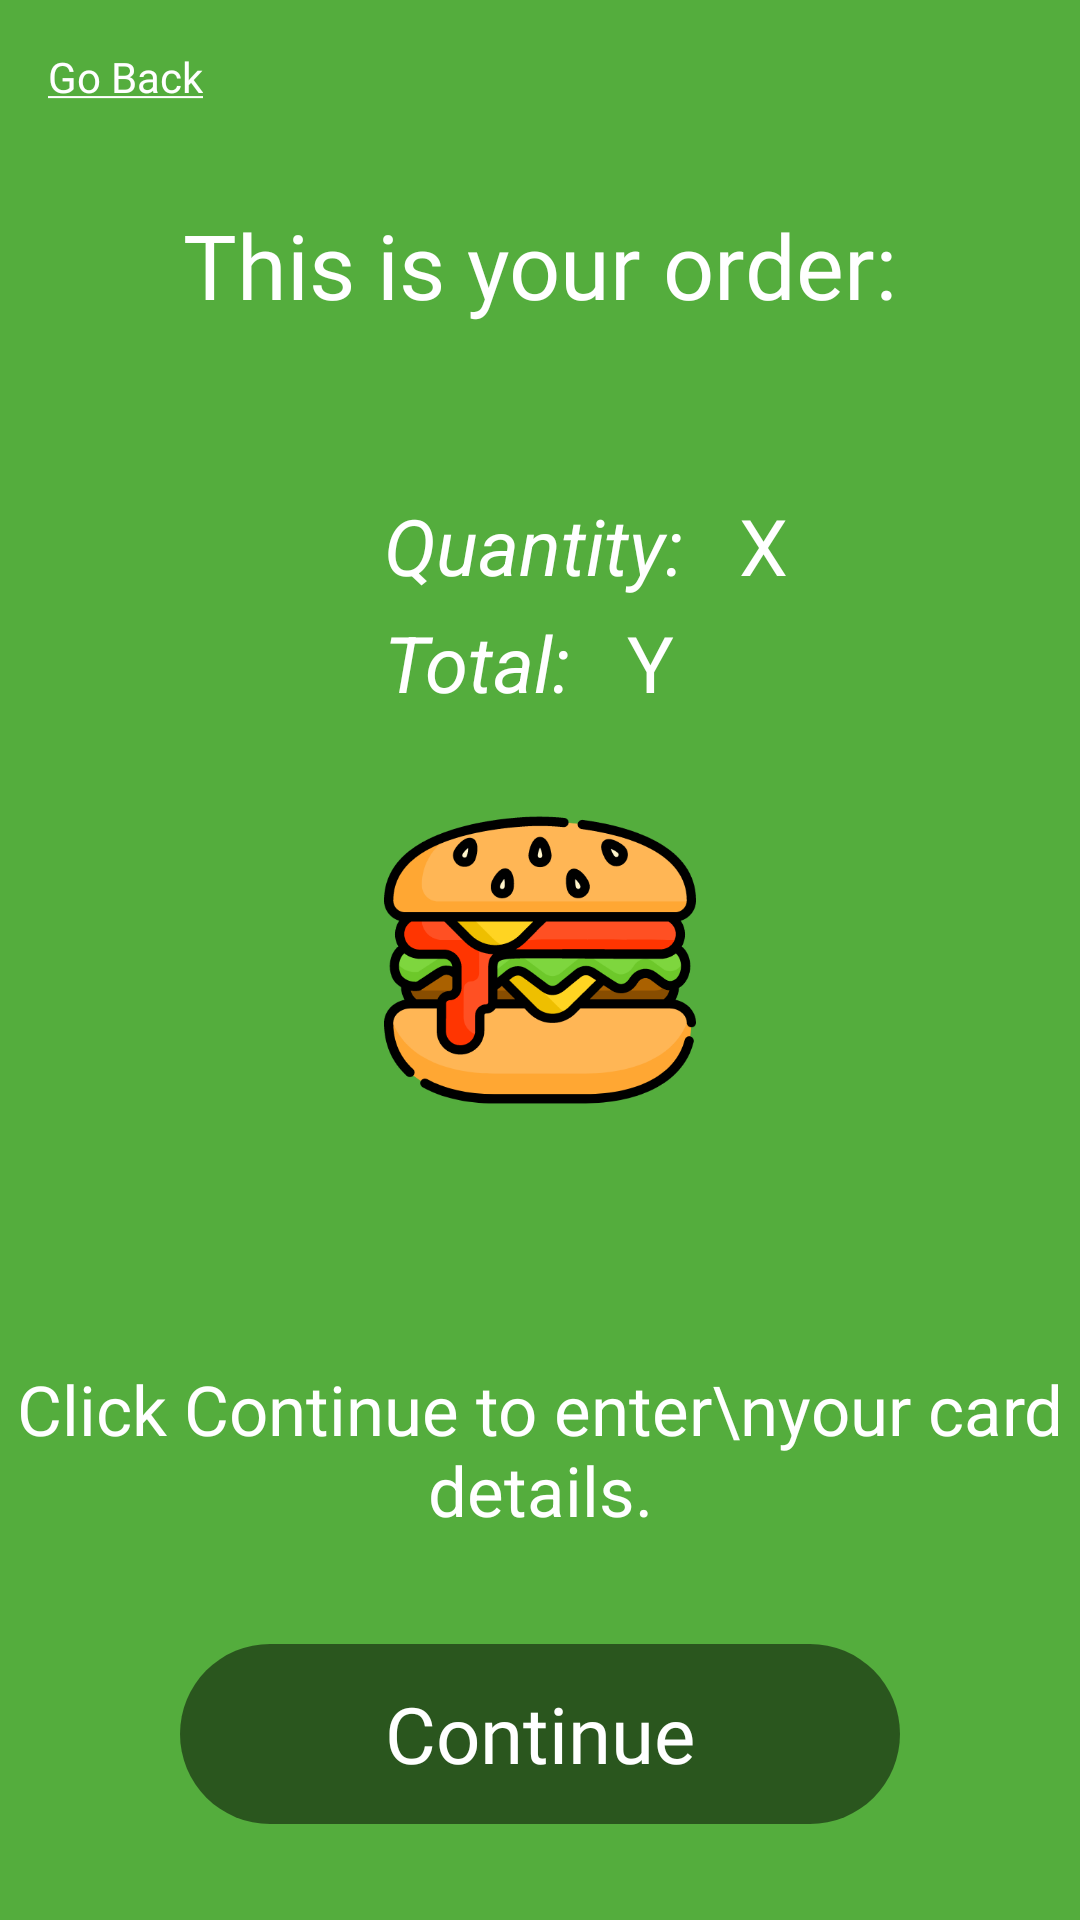

Named icons in this screenshot (1080px x 1920px) and their bounding boxes, [x1, y1, x2, y2]:
burger: [384, 816, 696, 1104]
